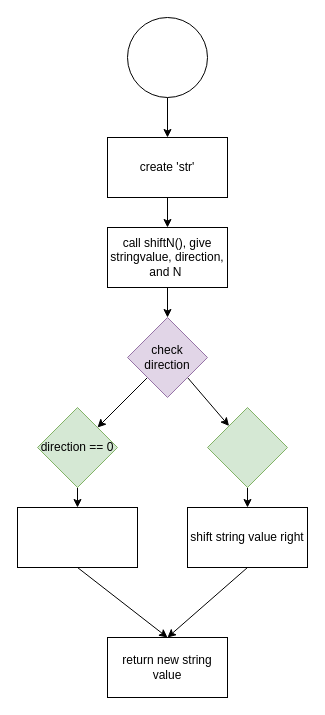
Some shapes in this 325 by 715 pixel diagram are drawn without their labels. Each missing label, with the box of its shape:
direction == 2: (206, 406, 288, 488)
shift string value left: (16, 506, 138, 568)
start: (126, 16, 208, 98)
